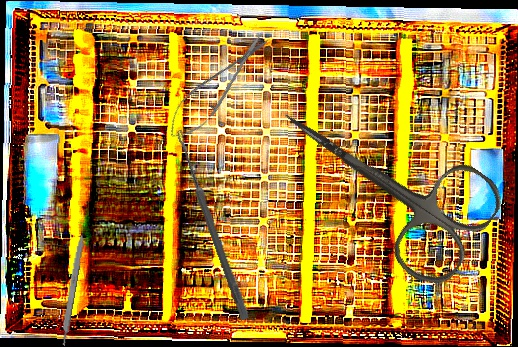Iris Scissors: (251, 62, 511, 295)
Micro Scissor: (158, 24, 278, 149)
Scalpel Handle: (58, 232, 86, 346)
Surgical Spoon: (173, 129, 251, 321)
